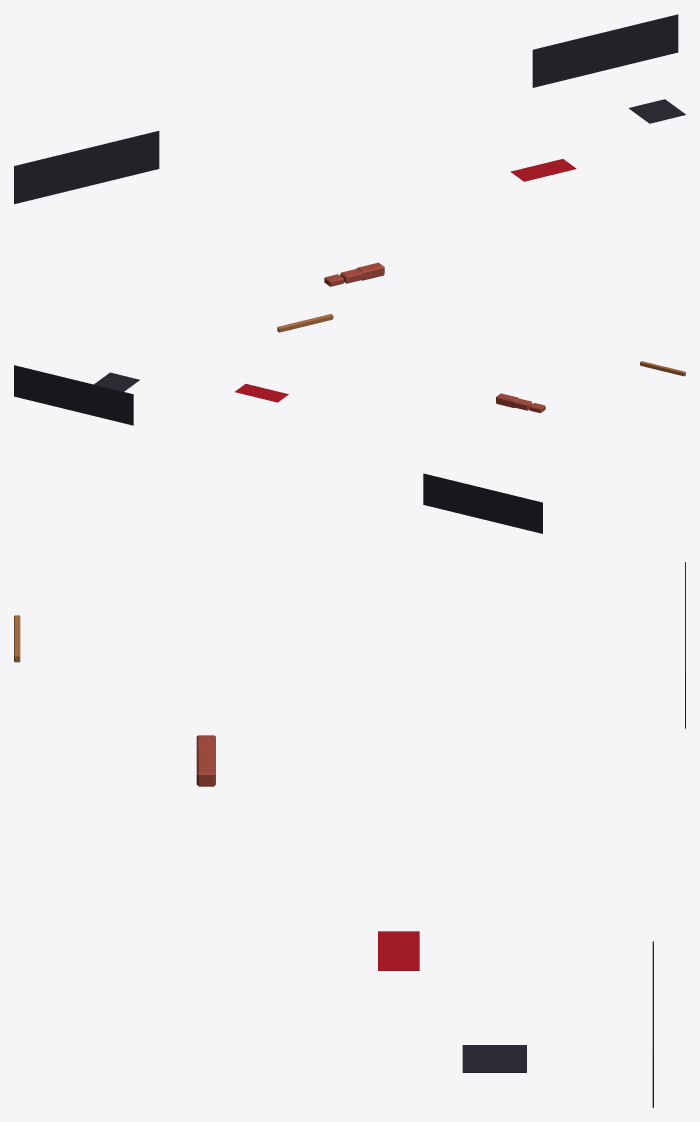
File: D-ZOO.w3.glb
The picture shows the model from 3 angles, top to bottom: view 1: azimuth 30°, elevation 25°; view 2: azimuth 150°, elevation 25°; view 3: azimuth 270°, elevation 25°; orthographic projection. The views are drawn at different scales.
Parts seen in each view (by area): view 1: pal_uiDark, pal_brick.002, pal_blood.001; view 2: pal_uiDark, pal_brick.002, pal_blood.001; view 3: pal_uiDark, pal_blood.001, pal_brick.002.
Part boxes in pixels (bbox=[...]): pal_uiDark: bbox=[14, 14, 685, 203]; pal_brick.002: bbox=[324, 262, 384, 286]; pal_blood.001: bbox=[510, 159, 576, 181]; pal_uiDark: bbox=[14, 365, 542, 533]; pal_brick.002: bbox=[496, 393, 545, 413]; pal_blood.001: bbox=[235, 384, 288, 402]; pal_uiDark: bbox=[462, 562, 685, 1107]; pal_blood.001: bbox=[378, 931, 419, 970]; pal_brick.002: bbox=[196, 735, 215, 786].
Size of the model in its own units: 36 by 2.33 by 20.96.
